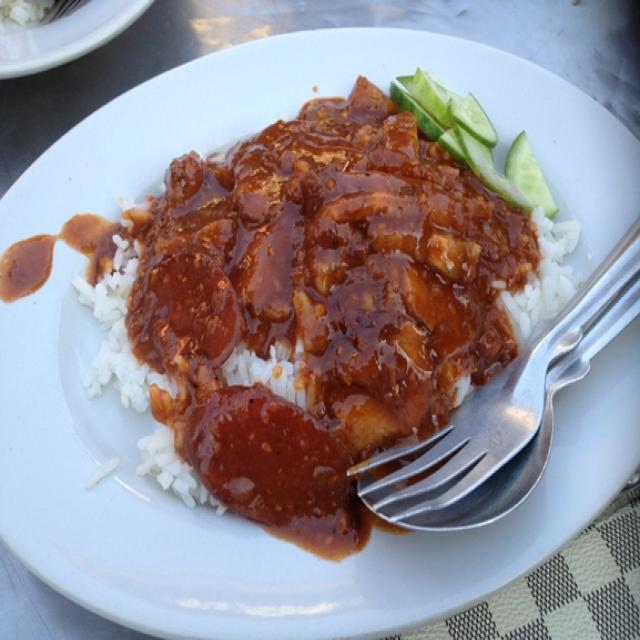猪肉菜式: (58, 66, 554, 522)
